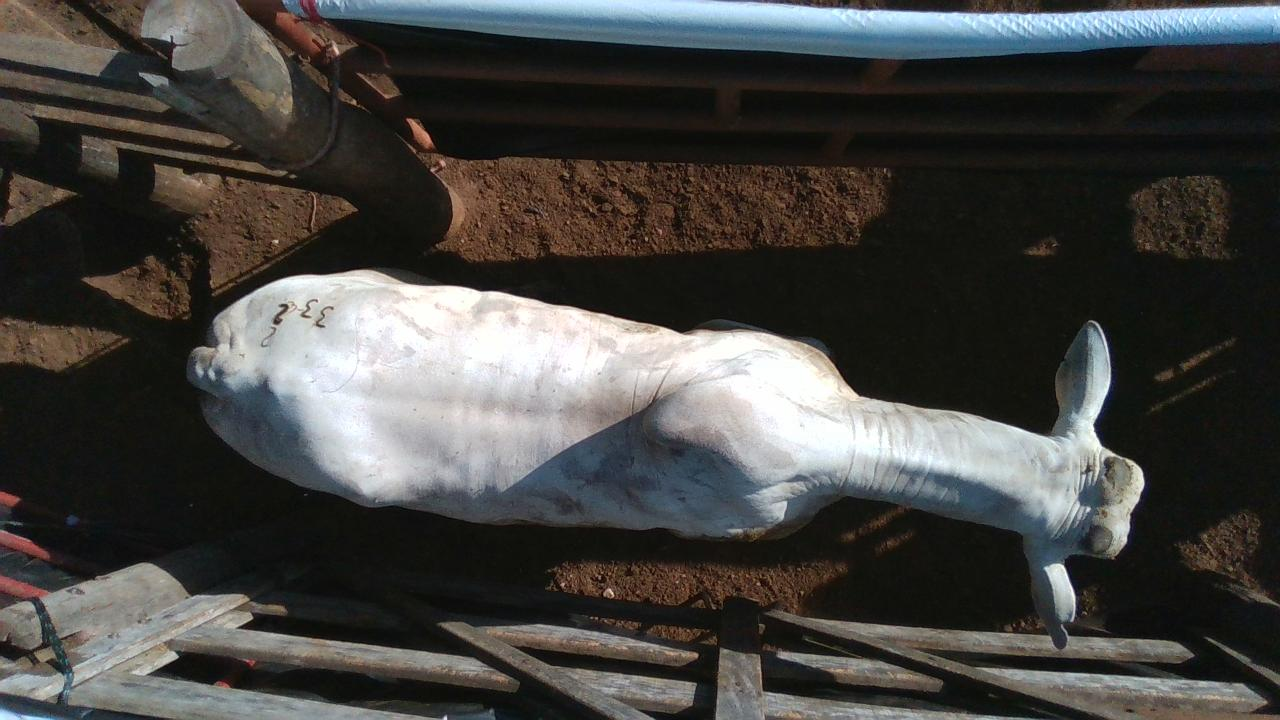cattle: (184, 265, 1146, 650)
